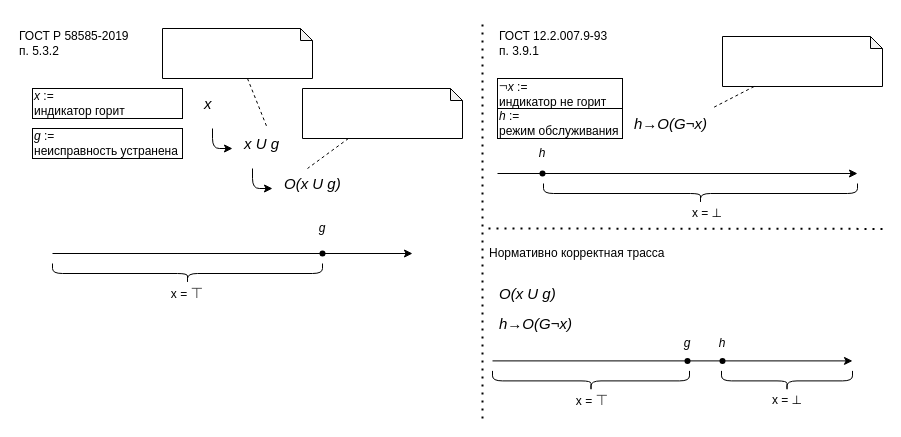
The diagram is 901 pixels wide and 437 high, and some of its shapes have lost their labels. Each missing label, with the centre of its shape:
"горит до устранения неисправности" goes at point (237, 53).
"должен гореть до устранения неисправности" goes at point (382, 113).
"после прехода в ржим обслуживания индикатор обязан не гореть" goes at point (802, 61).
